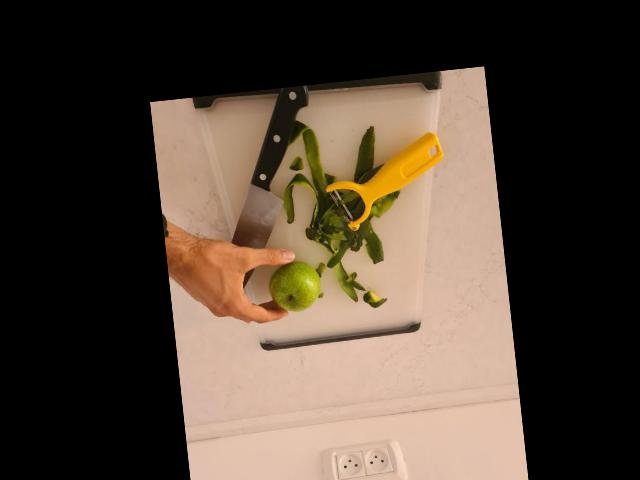apple: (266, 257, 325, 315)
